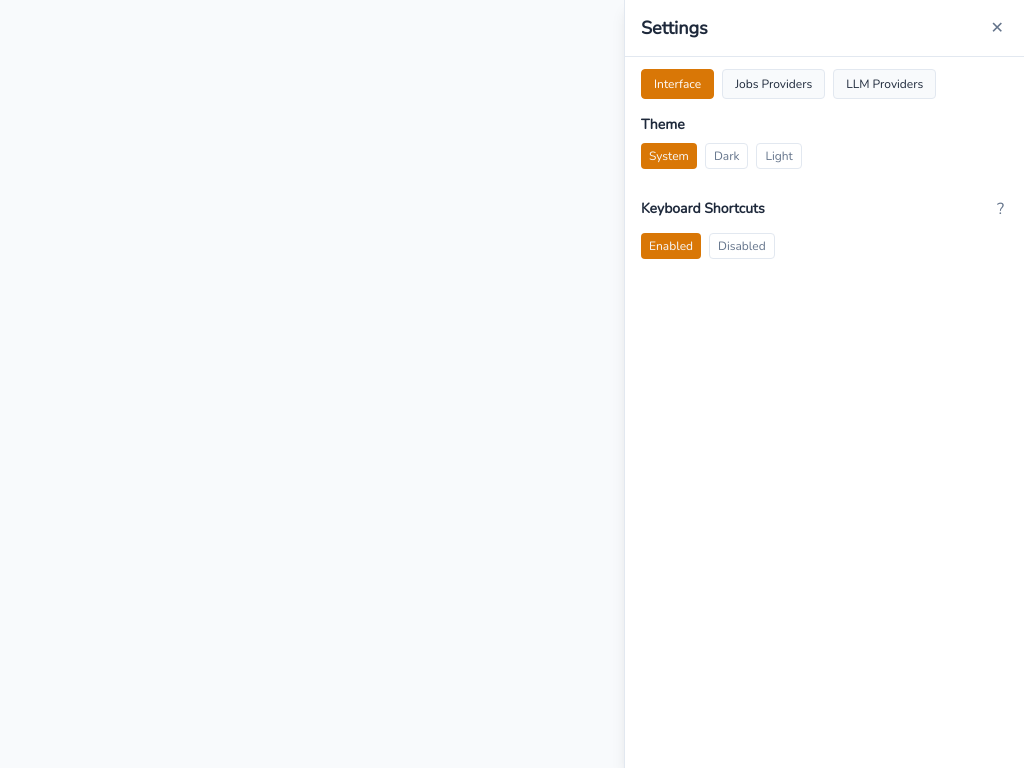
it: SettingsPanel › opens shortcuts help overlay from interface tab
The image size is (1024, 768).
Click the button named "show keyboard shortcuts". click: (1000, 209)
box: 993,193 -> 1008,225
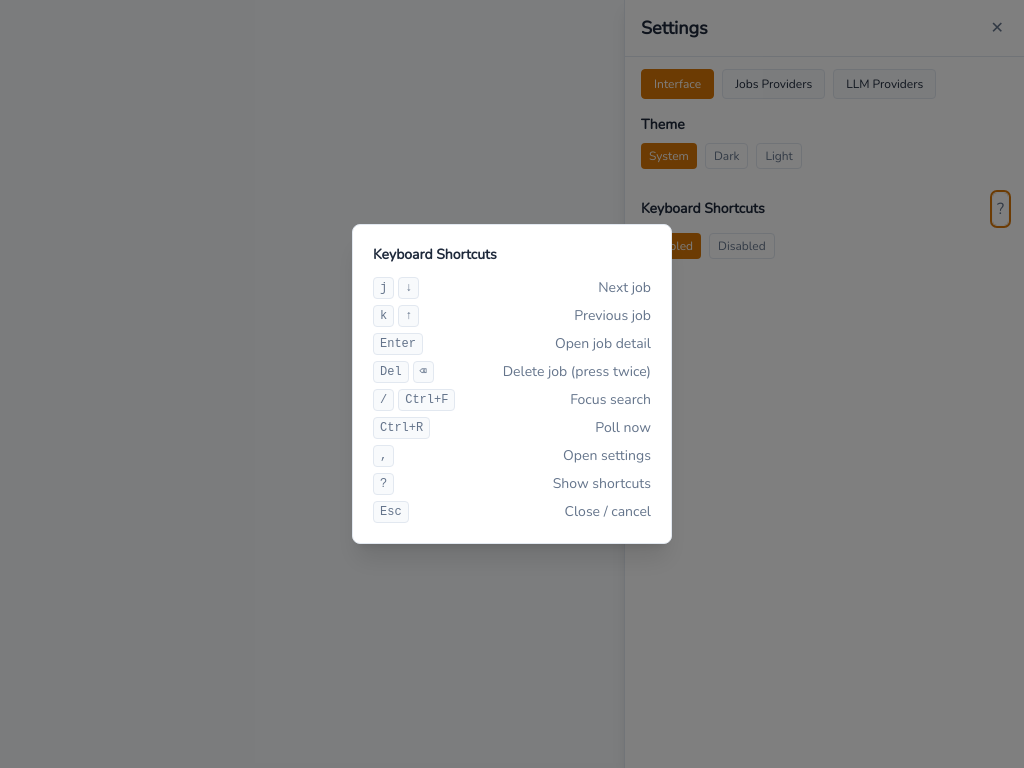
Result: the dialog "Keyboard Shortcuts" is shown
